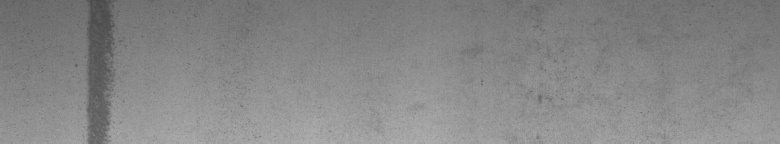hd: (75, 4, 126, 136)
